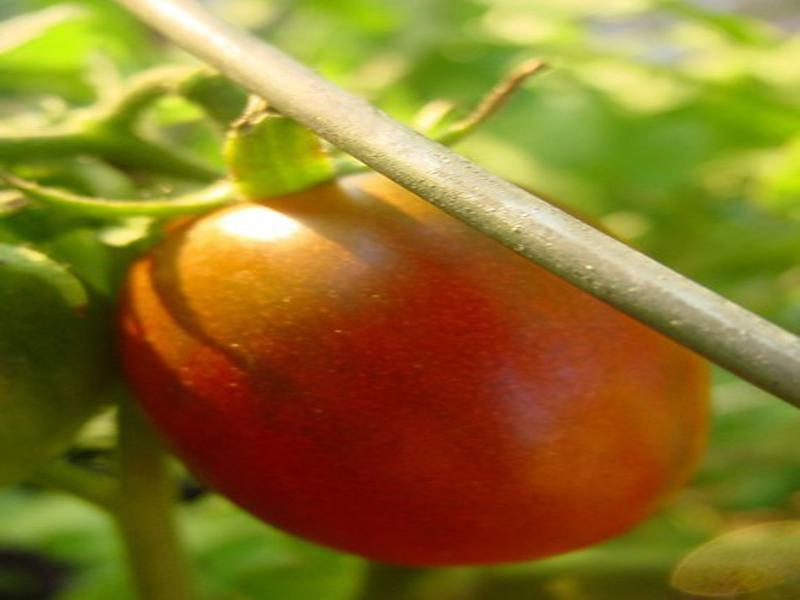Tomato: (124, 173, 700, 565)
